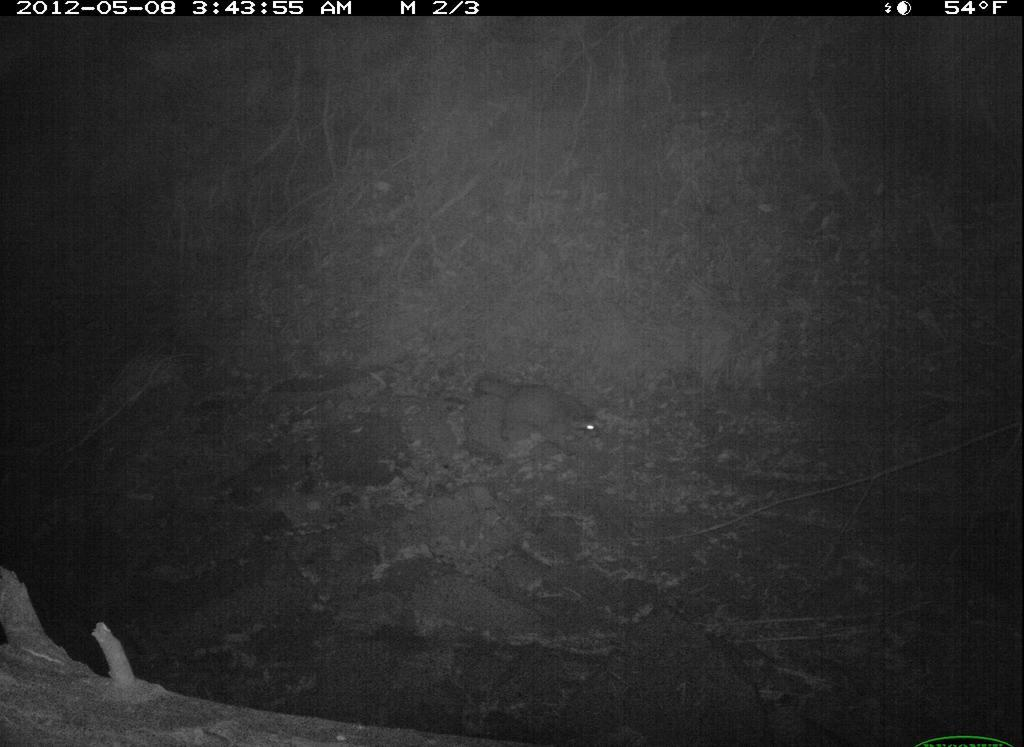raccoon: (466, 365, 609, 466)
